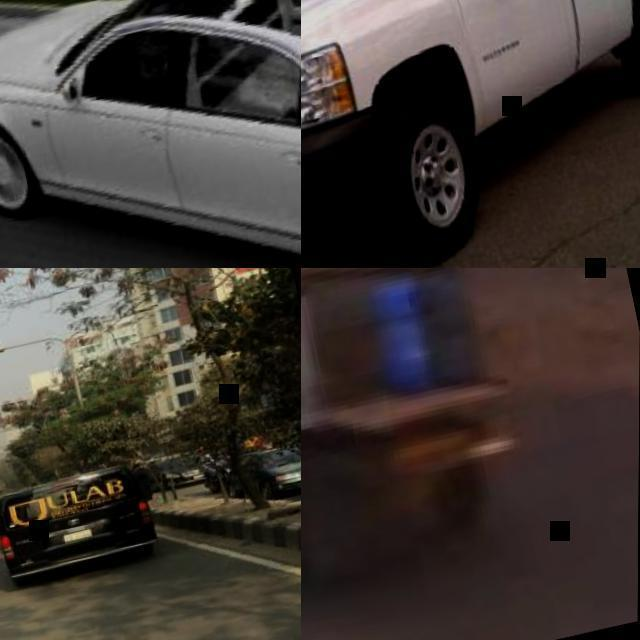car: (309, 0, 639, 248), (7, 0, 299, 249), (1, 392, 160, 581)
